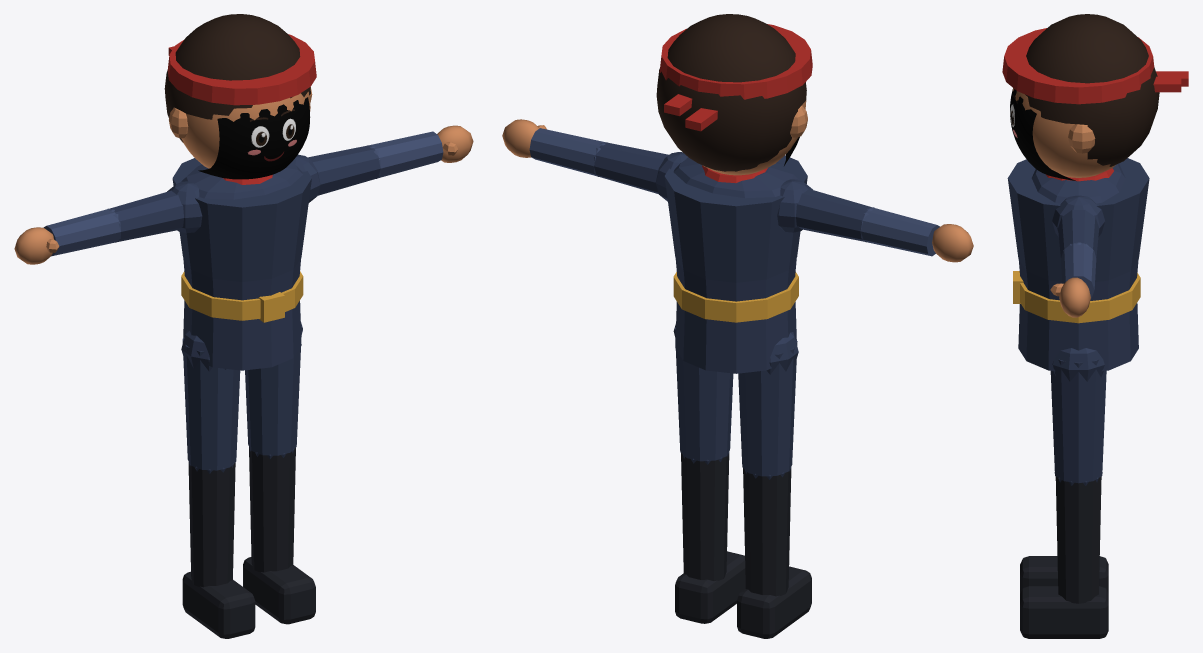
The model's file is character_for_mixamo.fbx.
The picture shows the model from 3 angles, left to right: view 1: azimuth 30°, elevation 25°; view 2: azimuth 150°, elevation 25°; view 3: azimuth 270°, elevation 25°; orthographic projection. The views are drawn at different scales.
Visible parts, largest first — view 1: Body; view 2: Body; view 3: Body.
Part boxes in pixels (x1,y1,x2,y2): Body: (14, 14, 473, 638); Body: (502, 14, 973, 638); Body: (1002, 14, 1188, 638).
Bounding box in the file's own units: 150 × 186 × 52.5.
8 materials, 1 textured.
